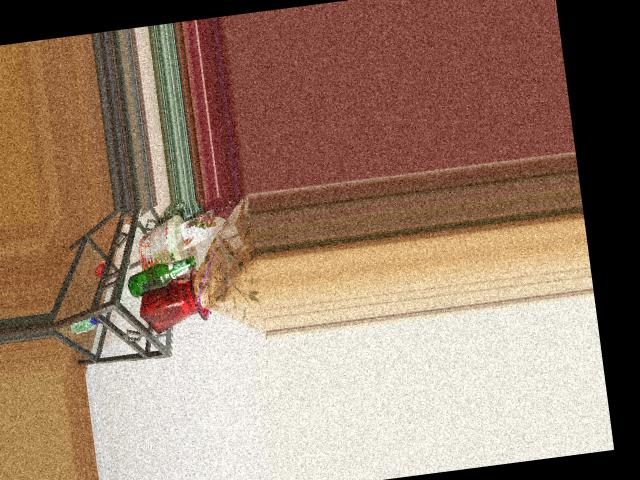beer: (125, 256, 199, 297)
